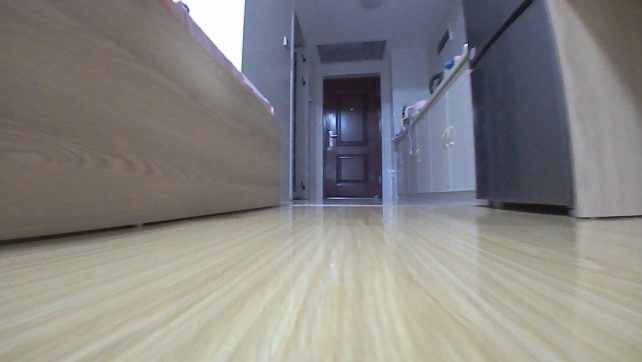bed1: (0, 0, 285, 244)
cupboard: (394, 51, 484, 205)
door_anno: (321, 72, 383, 199)
refrigerator: (459, 0, 578, 213)
